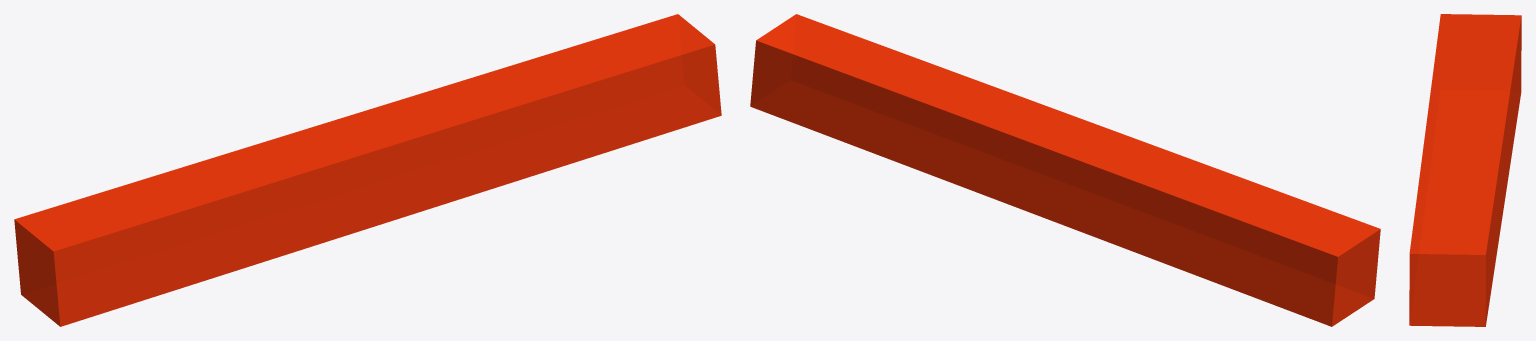
The model's file is Event_420107950_EErechit_25.fbx.
3 renders of one model, left to right at view 1: azimuth 30°, elevation 25°; view 2: azimuth 150°, elevation 25°; view 3: azimuth 270°, elevation 25°, orthographic. The views are drawn at different scales.
Parts seen in each view (by area): view 1: Model; view 2: Model; view 3: Model.
Part boxes in pixels (x1,y1,x2,y2): Model: [14, 14, 721, 326]; Model: [750, 14, 1380, 326]; Model: [1409, 14, 1521, 326].
Size of the model in its own units: 0.6803 by 0.138 by 0.1064.
